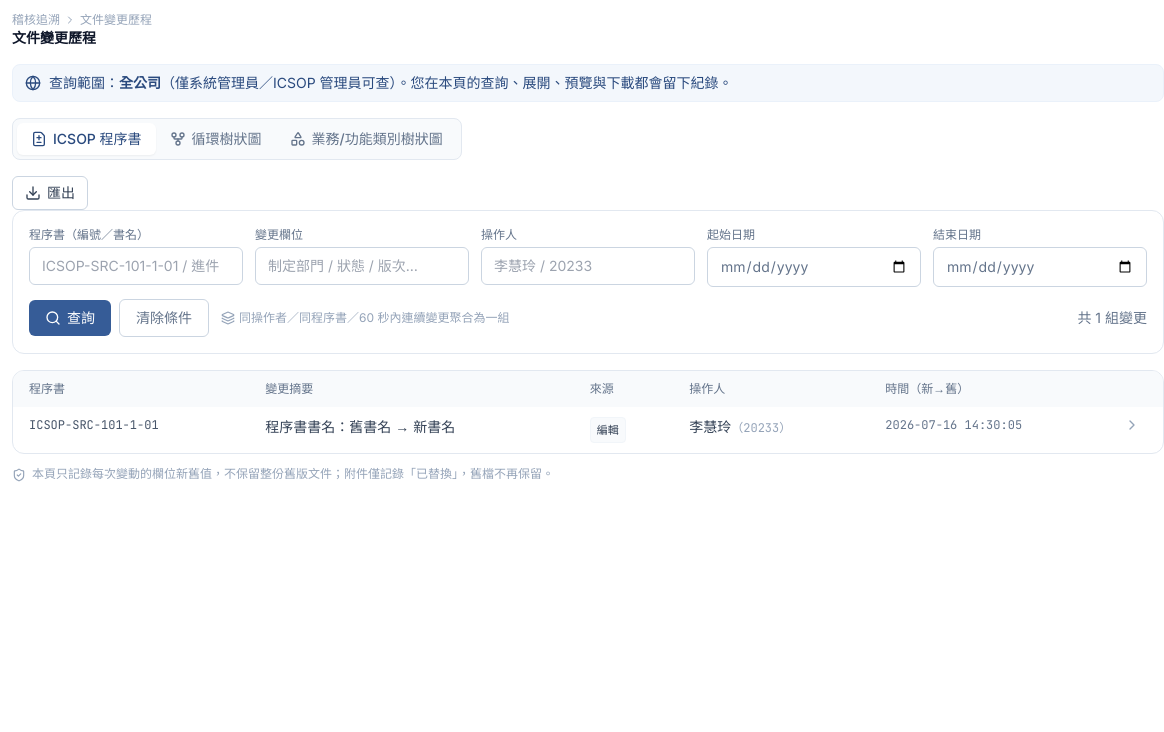
Scenario: ChangeHistoryPage — F043 戊：第三個 tab「業務/功能類別樹狀圖」 › N19 該類別尚無結構變更事件 → 逐字「此業務/功能類別尚無結構變更事件」
Click the button "業務/功能類別樹狀圖". click: (366, 139)
box: [276, 123, 457, 155]
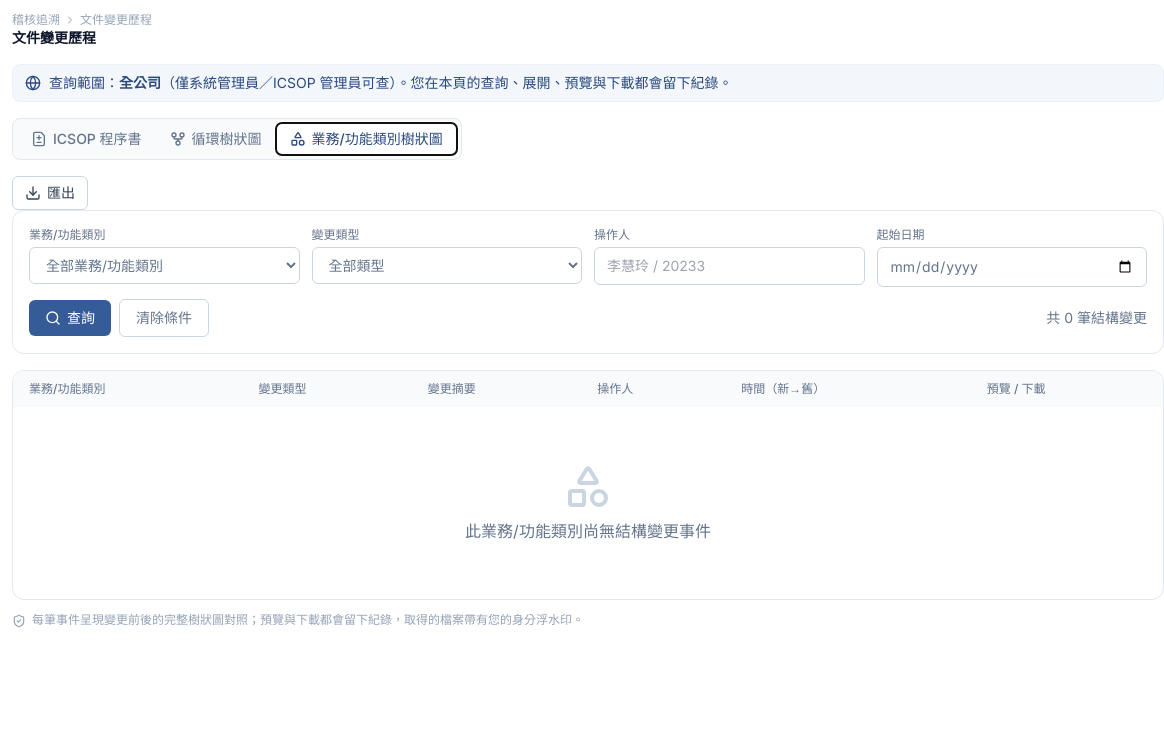
Expected: the text "此業務/功能類別尚無結構變更事件" is shown, [465, 521, 711, 541]
